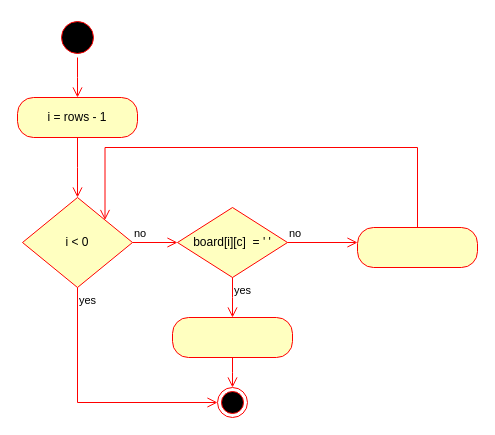
Some shapes in this 495 by 435 pixel diagram are drawn without their labels. Each missing label, with the centre of its shape:
board[i][c] = p: the point at 232,337
i--: the point at 417,247
